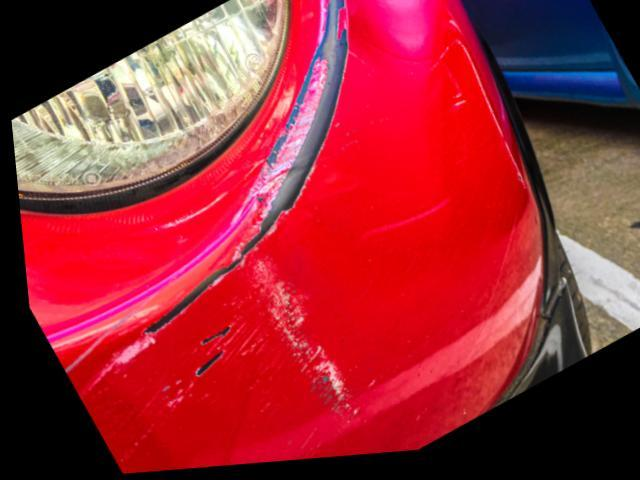scratch: (51, 0, 372, 475), (442, 31, 532, 213)
